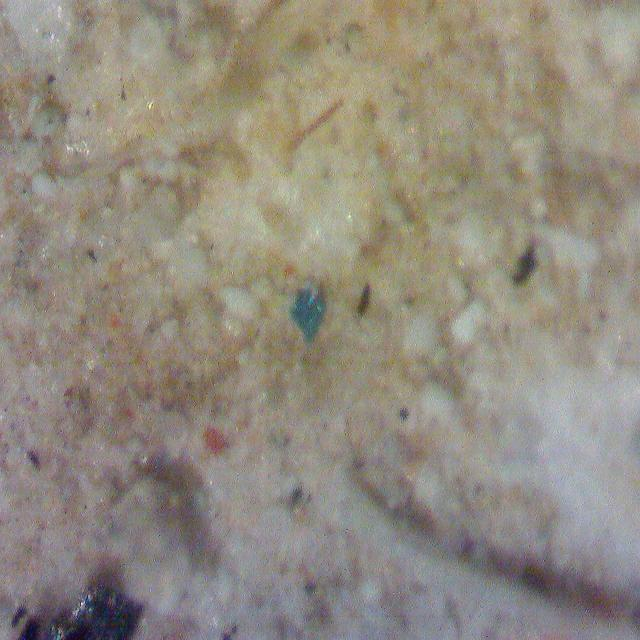microplastic: (289, 287, 328, 345)
